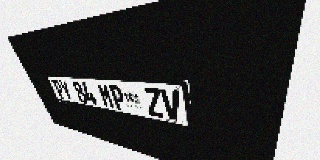4: (80, 82, 98, 105)
8: (71, 81, 89, 104)
M: (96, 83, 115, 109)
P: (108, 84, 127, 111), (51, 79, 67, 100)
V: (160, 89, 183, 122)
Y: (58, 80, 74, 101)
Z: (143, 87, 165, 118)
